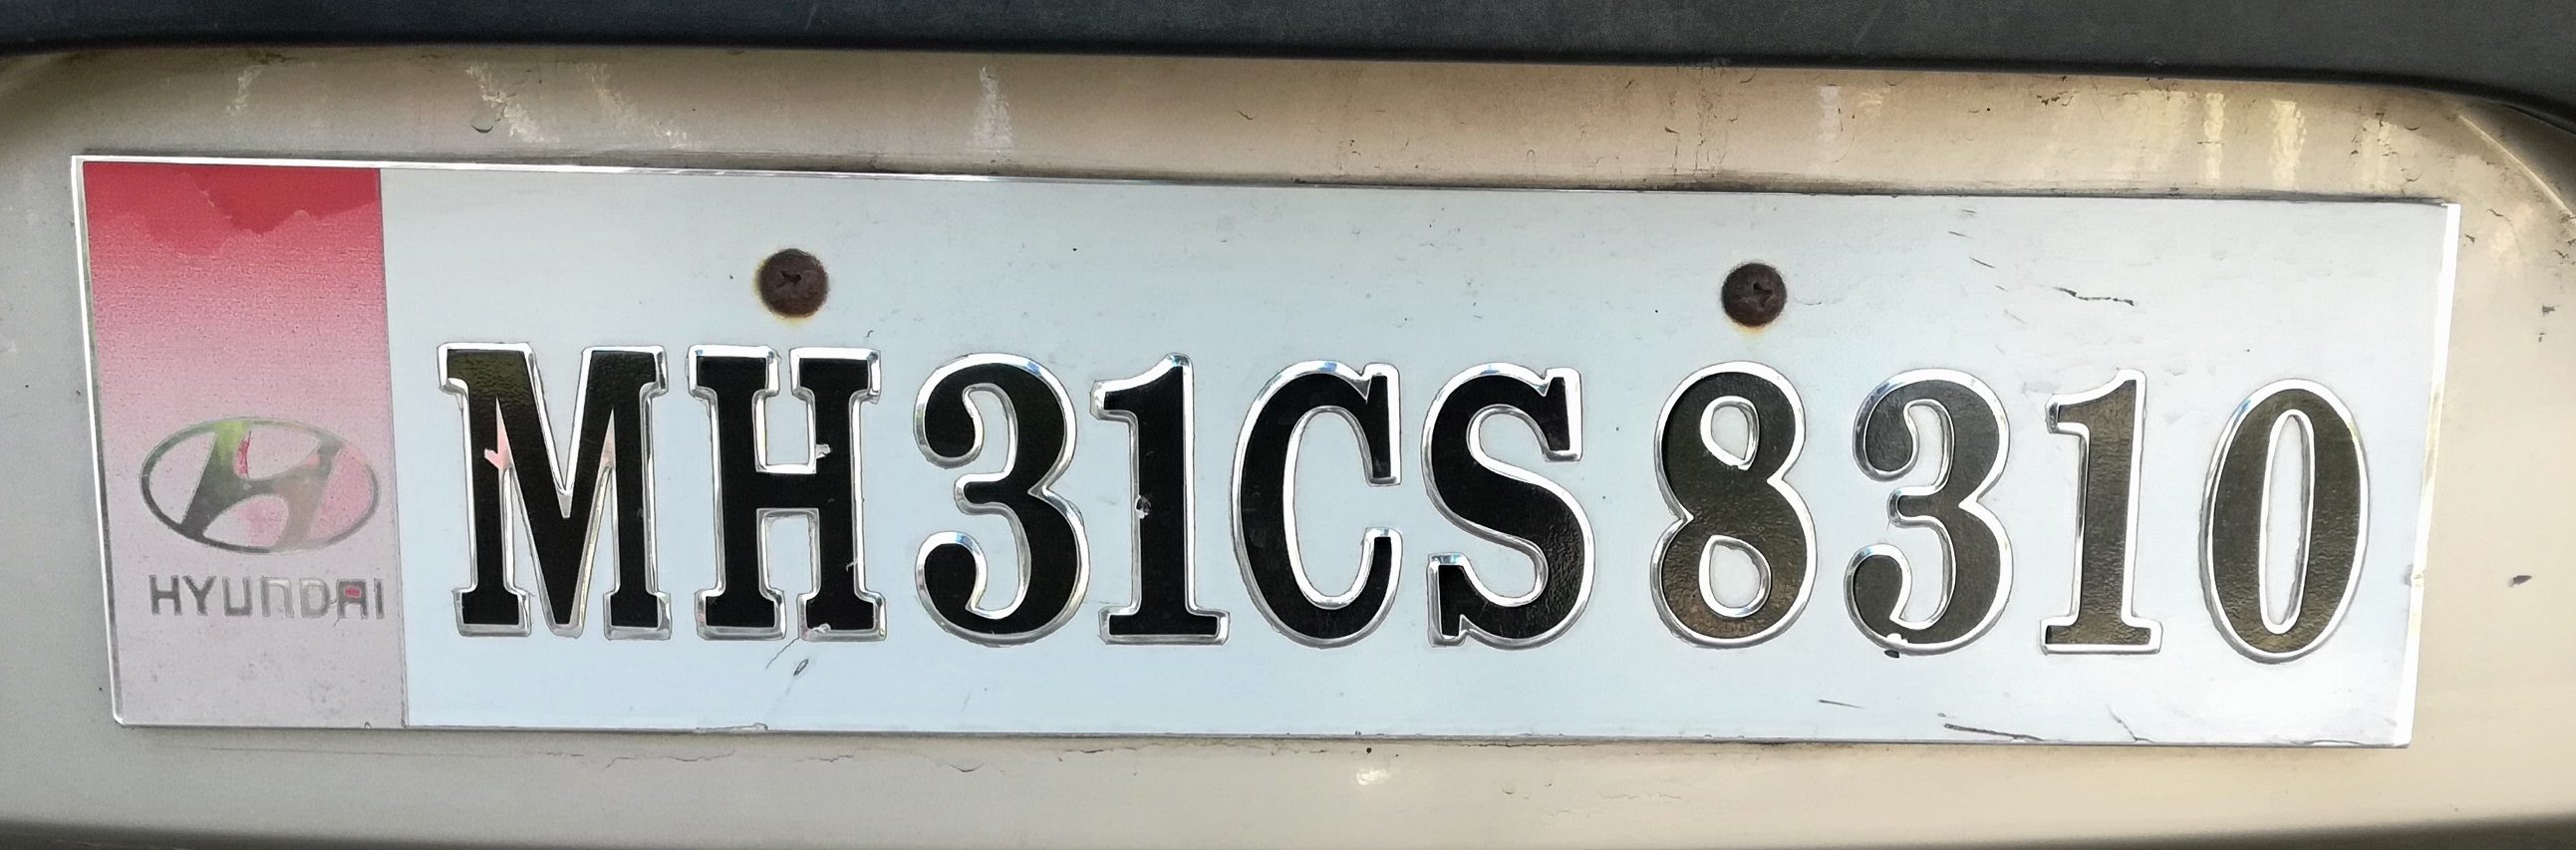numberplate: (73, 137, 2432, 764)
